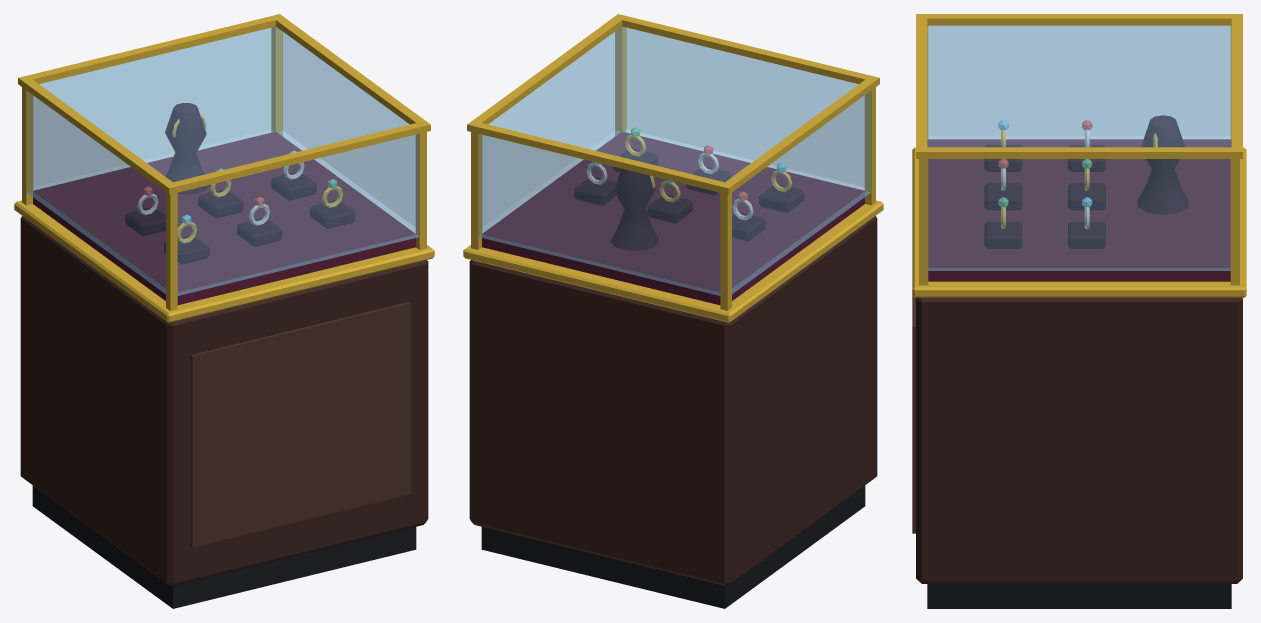
File: jewelry_case.glb
3 views of the same model, side by side, from view 1: azimuth 30°, elevation 25°; view 2: azimuth 150°, elevation 25°; view 3: azimuth 270°, elevation 25° (orthographic). The views are drawn at different scales.
Visible parts, largest first — view 1: jewelry_case; view 2: jewelry_case; view 3: jewelry_case.
Part boxes in pixels (x1=…): jewelry_case: x1=14, y1=14, x2=434, y2=608; jewelry_case: x1=463, y1=14, x2=883, y2=608; jewelry_case: x1=912, y1=14, x2=1246, y2=608.
Bounding box in the file's own units: 0.88 × 1.34 × 0.88.
